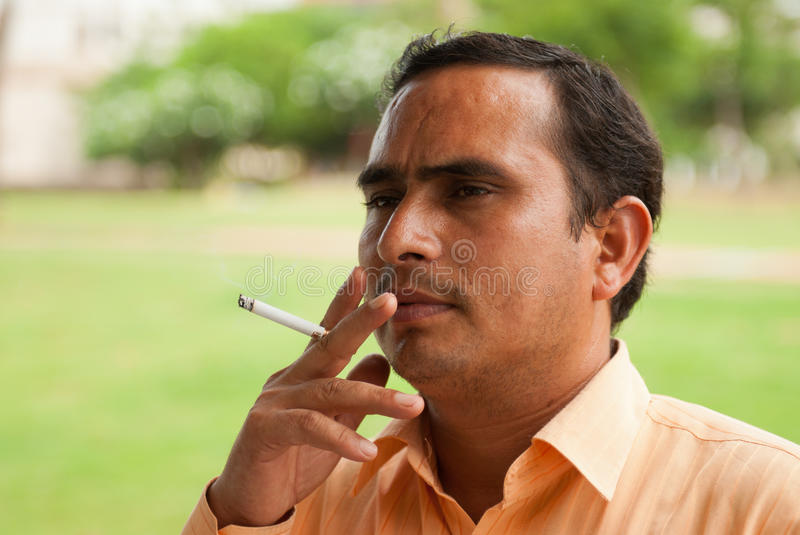cigarette: (224, 287, 335, 339)
